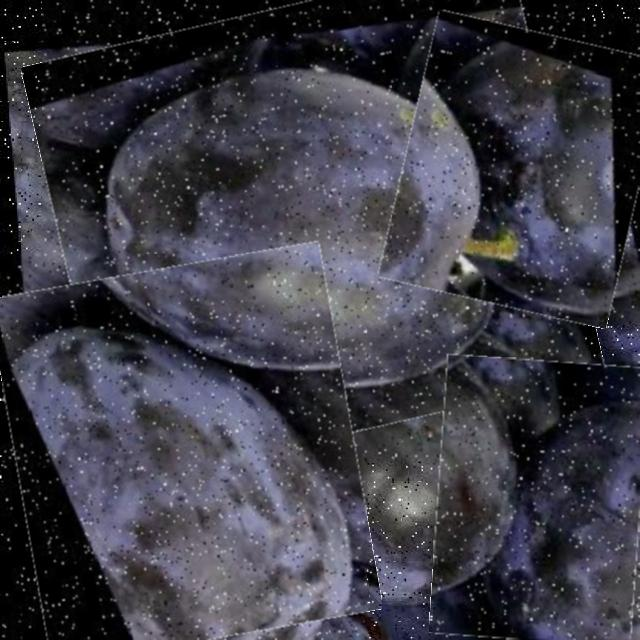plum: (42, 0, 585, 460), (2, 254, 367, 640), (392, 21, 640, 318), (433, 357, 640, 640)
